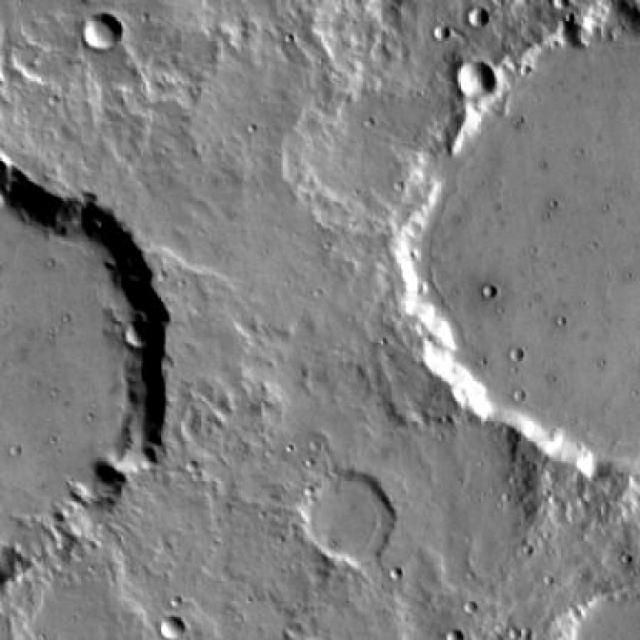crater: (391, 0, 640, 458), (0, 164, 169, 598), (299, 474, 396, 568), (456, 63, 495, 100), (86, 13, 123, 49), (120, 320, 152, 349), (163, 615, 188, 640), (468, 9, 490, 29), (434, 25, 452, 41)
